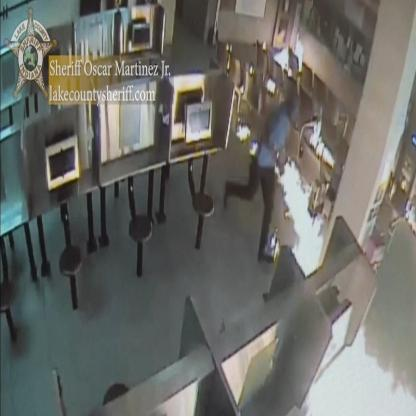fire: (304, 323, 416, 416), (278, 162, 323, 276), (236, 124, 250, 141)
